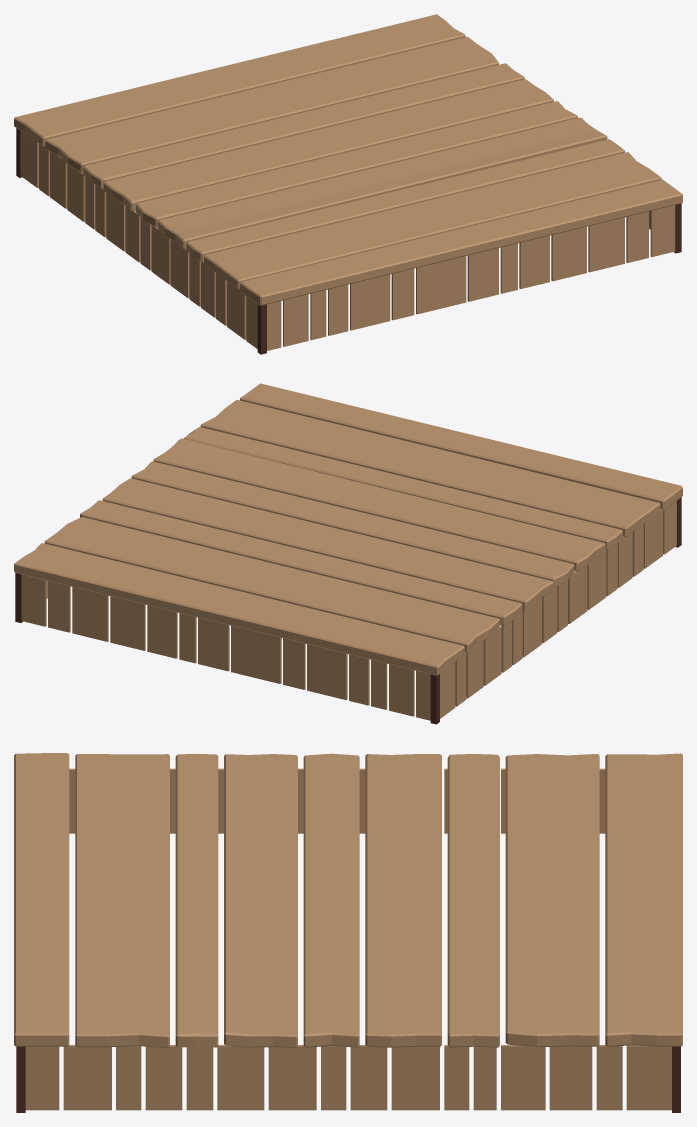
File: foundation-d.glb
3 views of the same model, one above another, from view 1: azimuth 30°, elevation 25°; view 2: azimuth 150°, elevation 25°; view 3: azimuth 270°, elevation 25° (orthographic). The views are drawn at different scales.
Visible parts, largest first — view 1: Foundation D (×2); view 2: Foundation D (×2); view 3: Foundation D (×2).
Boxes of the visible parts, bbox=[...] form: Foundation D (×2): bbox=[14, 14, 682, 354]; Foundation D (×2): bbox=[14, 383, 682, 724]; Foundation D (×2): bbox=[14, 753, 682, 1112].
Bounding box in the file's own units: 3.3 × 0.4442 × 3.3.
